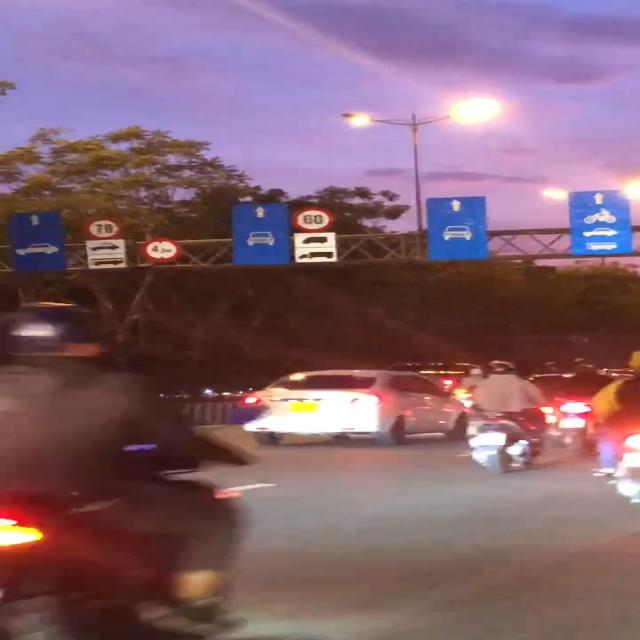Bien bao toc do toi da cho phep: (288, 208, 339, 232), (84, 218, 124, 240)
